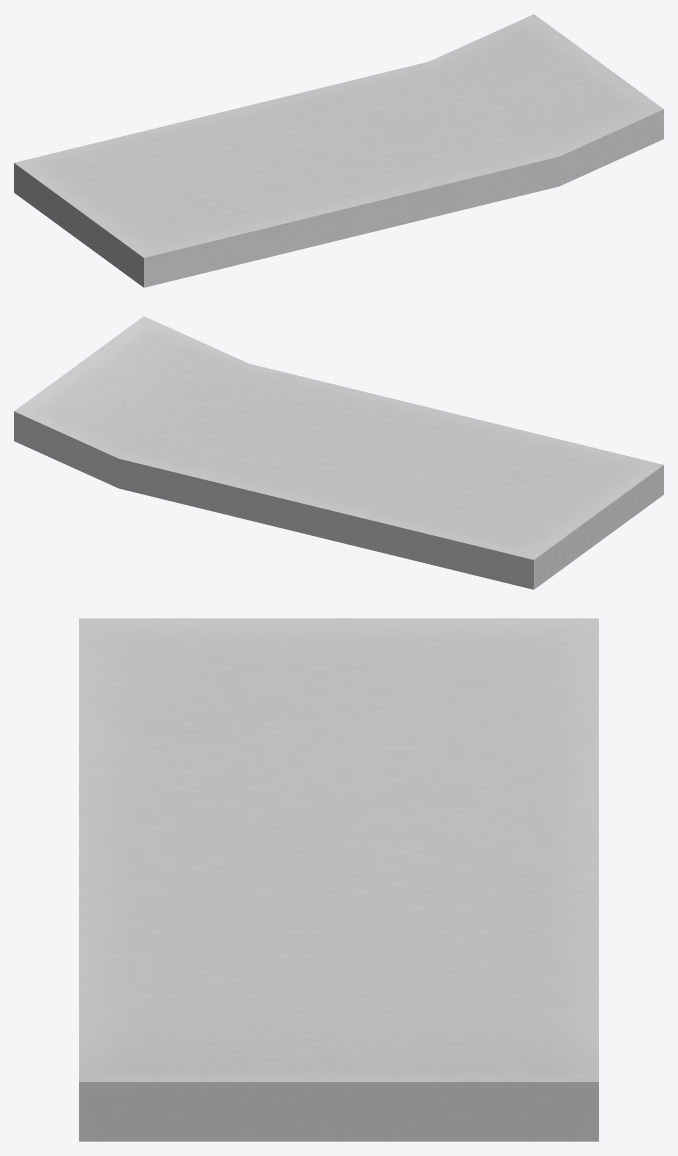
File: SM_PaperBox__3.fbx
The picture shows the model from 3 angles, top to bottom: view 1: azimuth 30°, elevation 25°; view 2: azimuth 150°, elevation 25°; view 3: azimuth 270°, elevation 25°; orthographic projection. The views are drawn at different scales.
Parts seen in each view (by area): view 1: Mat_PaperBox_02 yellowWhite; view 2: Mat_PaperBox_02 yellowWhite; view 3: Mat_PaperBox_02 yellowWhite.
Part boxes in pixels (x1=…): Mat_PaperBox_02 yellowWhite: x1=14, y1=14, x2=663, y2=287; Mat_PaperBox_02 yellowWhite: x1=14, y1=316, x2=663, y2=589; Mat_PaperBox_02 yellowWhite: x1=79, y1=618, x2=598, y2=1141.
Size of the model in its own units: 0.803 by 0.0763 by 0.3477.
Materials: 1 (1 with a texture image).
